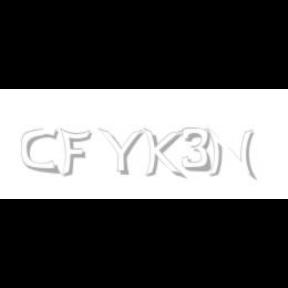3: (182, 128, 212, 172)
C: (22, 128, 58, 174)
F: (59, 128, 91, 178)
K: (143, 128, 183, 180)
N: (206, 128, 254, 180)
Y: (98, 128, 144, 176)
